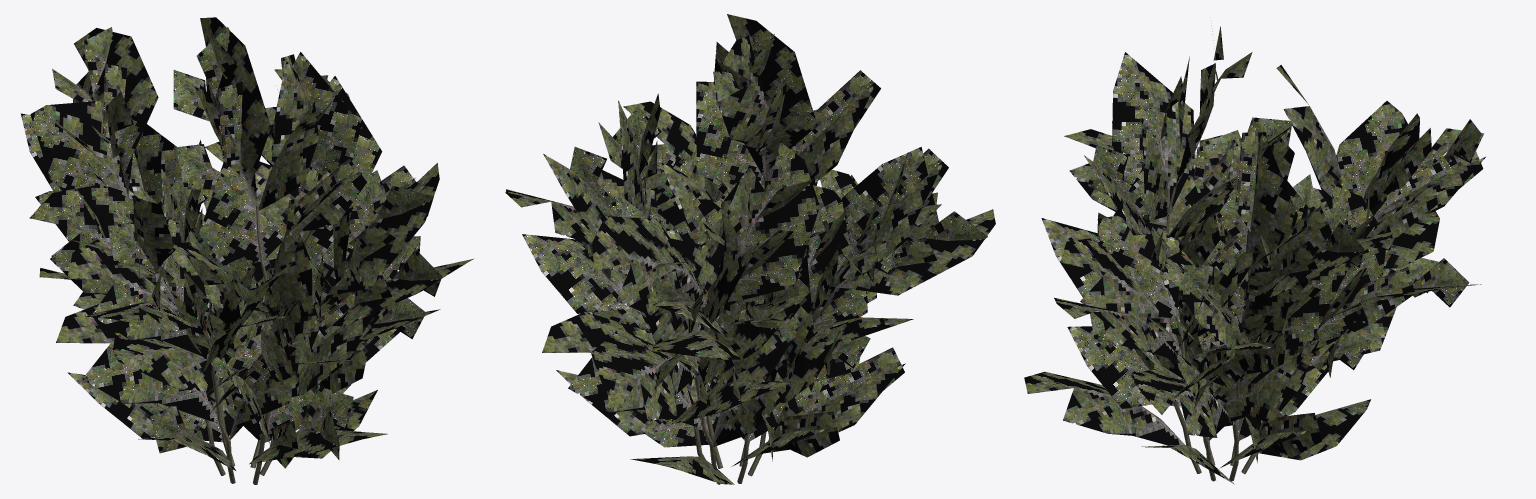
Rendered from bush_spicebush_b.glb.
3 views of the same model, side by side, from view 1: azimuth 30°, elevation 25°; view 2: azimuth 150°, elevation 25°; view 3: azimuth 270°, elevation 25° (orthographic). The views are drawn at different scales.
Visible parts, largest first — view 1: bush_spicebush_b_LOD0; view 2: bush_spicebush_b_LOD0; view 3: bush_spicebush_b_LOD0.
Boxes of the visible parts, x1,y1,x2,y2 form: bush_spicebush_b_LOD0: (20, 17, 473, 484); bush_spicebush_b_LOD0: (505, 14, 995, 484); bush_spicebush_b_LOD0: (1024, 26, 1485, 484).
Size of the model in its own units: 5.34 by 6.05 by 6.06.
1 material, 1 textured.
